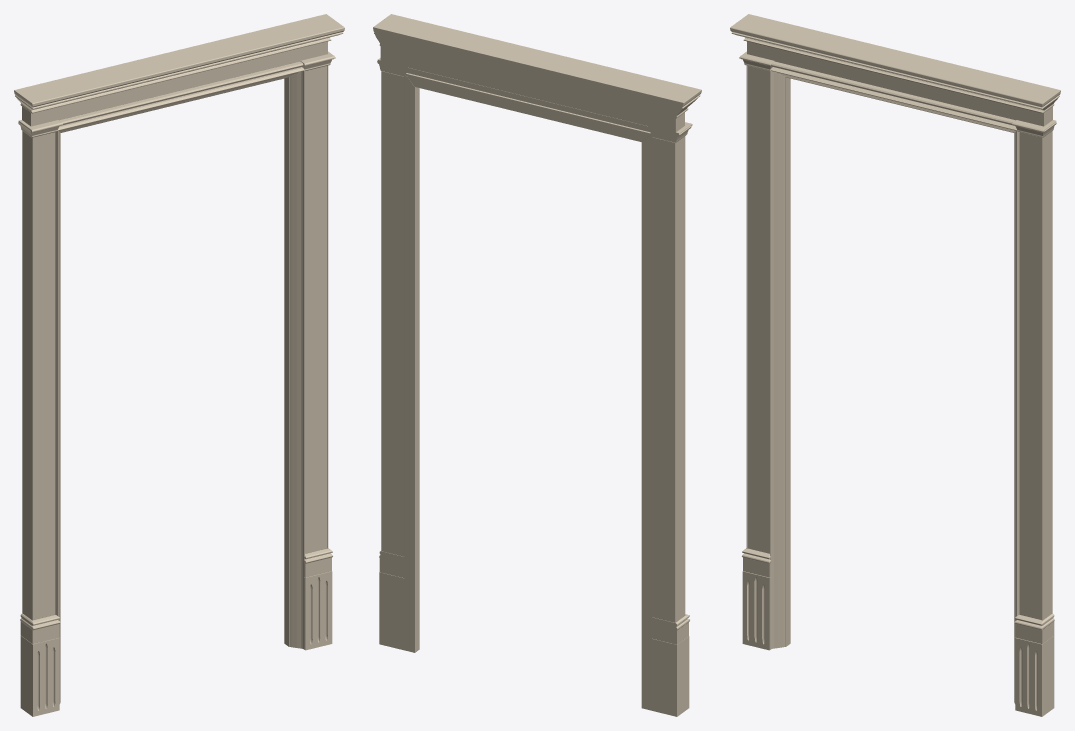
The picture shows the model from 3 angles, left to right: view 1: azimuth 30°, elevation 25°; view 2: azimuth 150°, elevation 25°; view 3: azimuth 330°, elevation 25°; orthographic projection.
Visible parts, largest first — view 1: 04_Izquierdo_Fuste_liso, 07_Derecho_Borde_interior_inglete, 04_Derecho_Fuste_liso, 01_Cornisa_superior_escalonada, 02_Friso_liso_horizontal, 07_Izquierdo_Borde_interior_inglete, 08_Izquierdo_Plinto_acanalado, 08_Derecho_Plinto_acanalado, 07_Dintel_Borde_interior_inglete, 03_Filete_inferior_del_friso, 05_Izquierdo_Filete_exterior, 05_Derecho_Filete_exterior (+1 smaller); view 2: 04_Izquierdo_Fuste_liso, 01_Cornisa_superior_escalonada, 04_Derecho_Fuste_liso, 07_Derecho_Borde_interior_inglete, 07_Izquierdo_Borde_interior_inglete, 02_Friso_liso_horizontal, 07_Dintel_Borde_interior_inglete, 08_Izquierdo_Plinto_acanalado, 08_Derecho_Plinto_acanalado, 03_Filete_inferior_del_friso, 05_Izquierdo_Filete_exterior, 09_Izquierdo_Dado_liso_sobre_plinto; view 3: 07_Izquierdo_Borde_interior_inglete, 04_Derecho_Fuste_liso, 04_Izquierdo_Fuste_liso, 01_Cornisa_superior_escalonada, 05_Derecho_Filete_exterior, 02_Friso_liso_horizontal, 07_Derecho_Borde_interior_inglete, 08_Derecho_Plinto_acanalado, 08_Izquierdo_Plinto_acanalado, 07_Dintel_Borde_interior_inglete, 03_Filete_inferior_del_friso, 05_Izquierdo_Filete_exterior (+1 smaller).
Part boxes in pixels (bbox=[...]): 04_Izquierdo_Fuste_liso: bbox=[22, 131, 55, 619]; 07_Derecho_Borde_interior_inglete: bbox=[284, 70, 304, 649]; 04_Derecho_Fuste_liso: bbox=[305, 66, 326, 553]; 01_Cornisa_superior_escalonada: bbox=[14, 14, 344, 113]; 02_Friso_liso_horizontal: bbox=[22, 41, 327, 126]; 07_Izquierdo_Borde_interior_inglete: bbox=[55, 131, 60, 703]; 08_Izquierdo_Plinto_acanalado: bbox=[20, 636, 59, 716]; 08_Derecho_Plinto_acanalado: bbox=[304, 571, 332, 650]; 07_Dintel_Borde_interior_inglete: bbox=[58, 67, 304, 132]; 03_Filete_inferior_del_friso: bbox=[18, 59, 333, 132]; 05_Izquierdo_Filete_exterior: bbox=[22, 131, 33, 620]; 05_Derecho_Filete_exterior: bbox=[327, 65, 328, 548]; 04_Izquierdo_Fuste_liso: bbox=[652, 136, 684, 622]; 01_Cornisa_superior_escalonada: bbox=[373, 14, 701, 118]; 04_Derecho_Fuste_liso: bbox=[381, 71, 404, 556]; 07_Derecho_Borde_interior_inglete: bbox=[404, 74, 419, 652]; 07_Izquierdo_Borde_interior_inglete: bbox=[641, 135, 652, 710]; 02_Friso_liso_horizontal: bbox=[380, 44, 684, 132]; 07_Dintel_Borde_interior_inglete: bbox=[405, 73, 651, 142]; 08_Izquierdo_Plinto_acanalado: bbox=[650, 636, 689, 716]; 08_Derecho_Plinto_acanalado: bbox=[379, 572, 406, 650]; 03_Filete_inferior_del_friso: bbox=[377, 60, 691, 137]; 05_Izquierdo_Filete_exterior: bbox=[675, 136, 685, 622]; 09_Izquierdo_Dado_liso_sobre_plinto: bbox=[651, 622, 688, 644]; 07_Izquierdo_Borde_interior_inglete: bbox=[770, 70, 790, 649]; 04_Derecho_Fuste_liso: bbox=[1019, 132, 1041, 619]; 04_Izquierdo_Fuste_liso: bbox=[748, 66, 769, 553]; 01_Cornisa_superior_escalonada: bbox=[730, 14, 1060, 113]; 05_Derecho_Filete_exterior: bbox=[1041, 131, 1052, 620]; 02_Friso_liso_horizontal: bbox=[747, 41, 1052, 126]; 07_Derecho_Borde_interior_inglete: bbox=[1014, 131, 1019, 703]; 08_Derecho_Plinto_acanalado: bbox=[1015, 636, 1054, 716]; 08_Izquierdo_Plinto_acanalado: bbox=[742, 571, 770, 650]; 07_Dintel_Borde_interior_inglete: bbox=[770, 67, 1016, 132]; 03_Filete_inferior_del_friso: bbox=[741, 59, 1056, 132]; 05_Izquierdo_Filete_exterior: bbox=[746, 65, 747, 548].
Size of the model in its own units: 1.16 by 2.2 by 0.1188.
